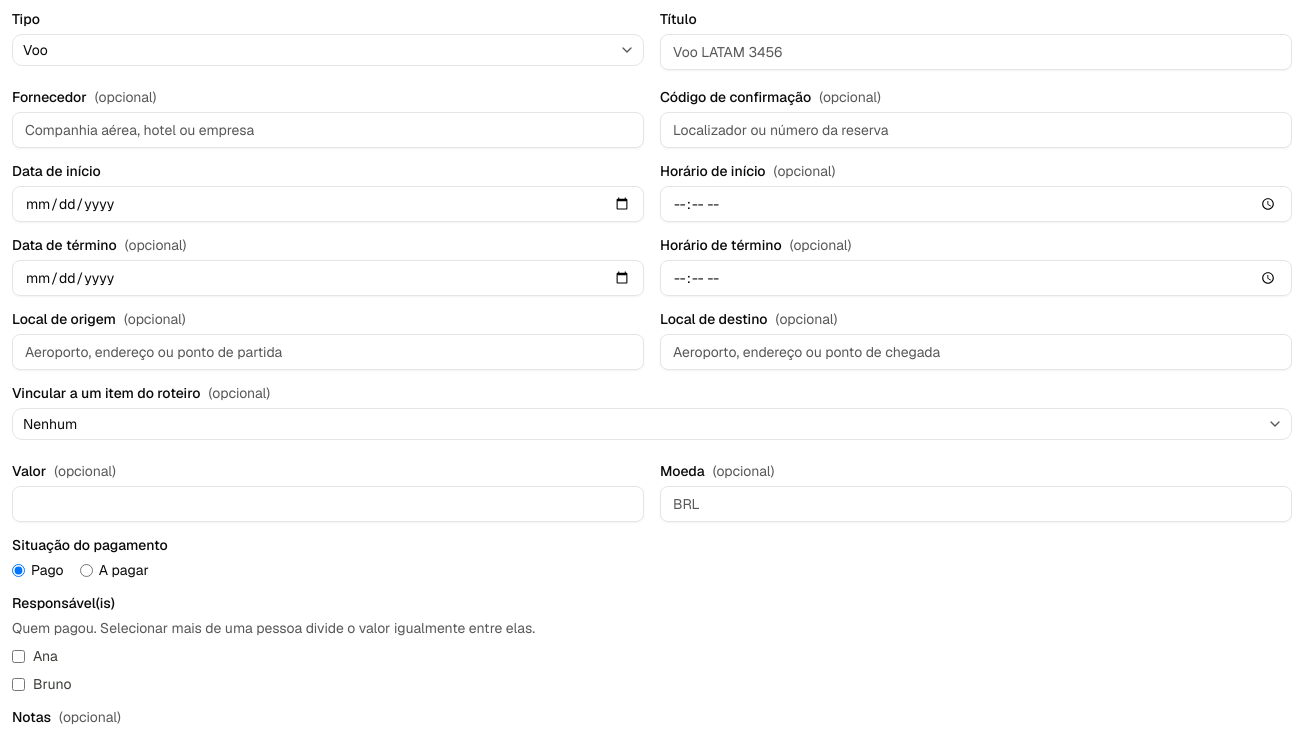
Test: ReservationForm › shows a per-person split preview once an amount is entered and more than one responsible person is checked (#205)
The width and height of the screenshot is (1304, 732).
In the number field labelled "Valor (opcional)": (328, 504) [12,486,644,522], type "100"
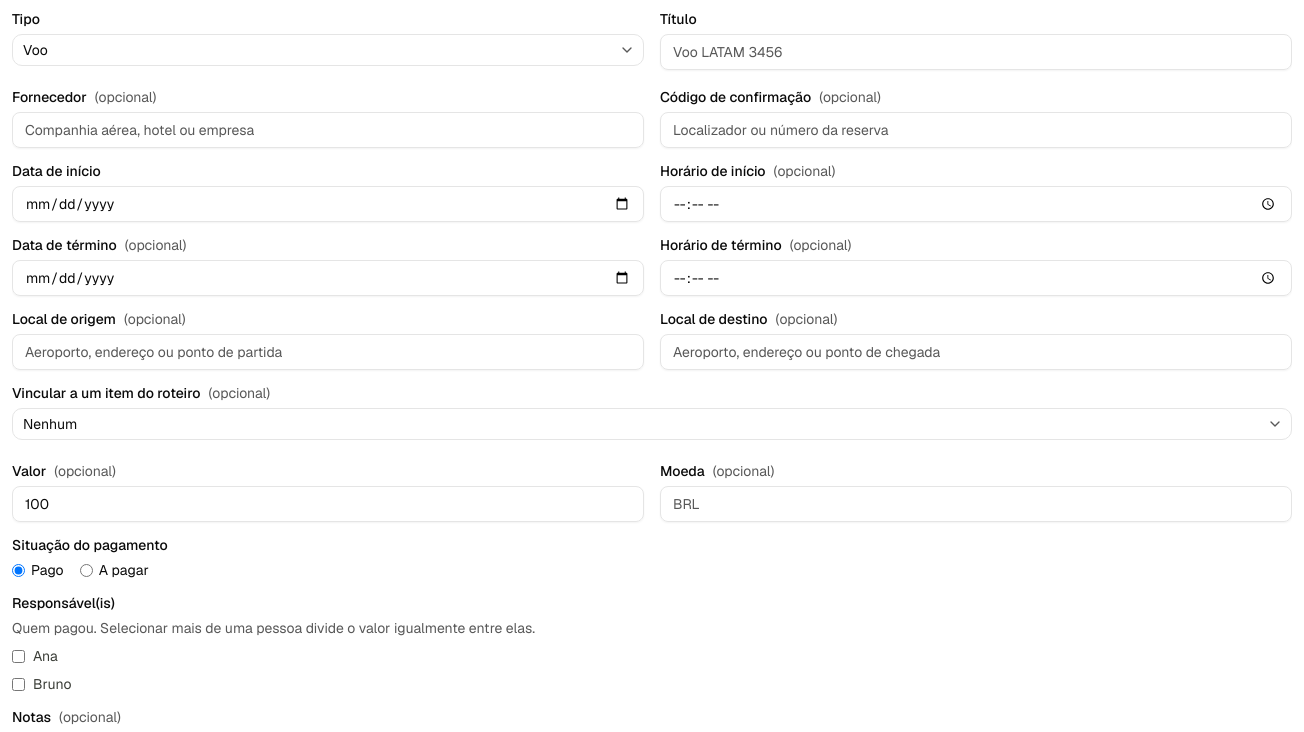
Click the checkbox labelled "Ana": (18, 656) [12,650,25,662]
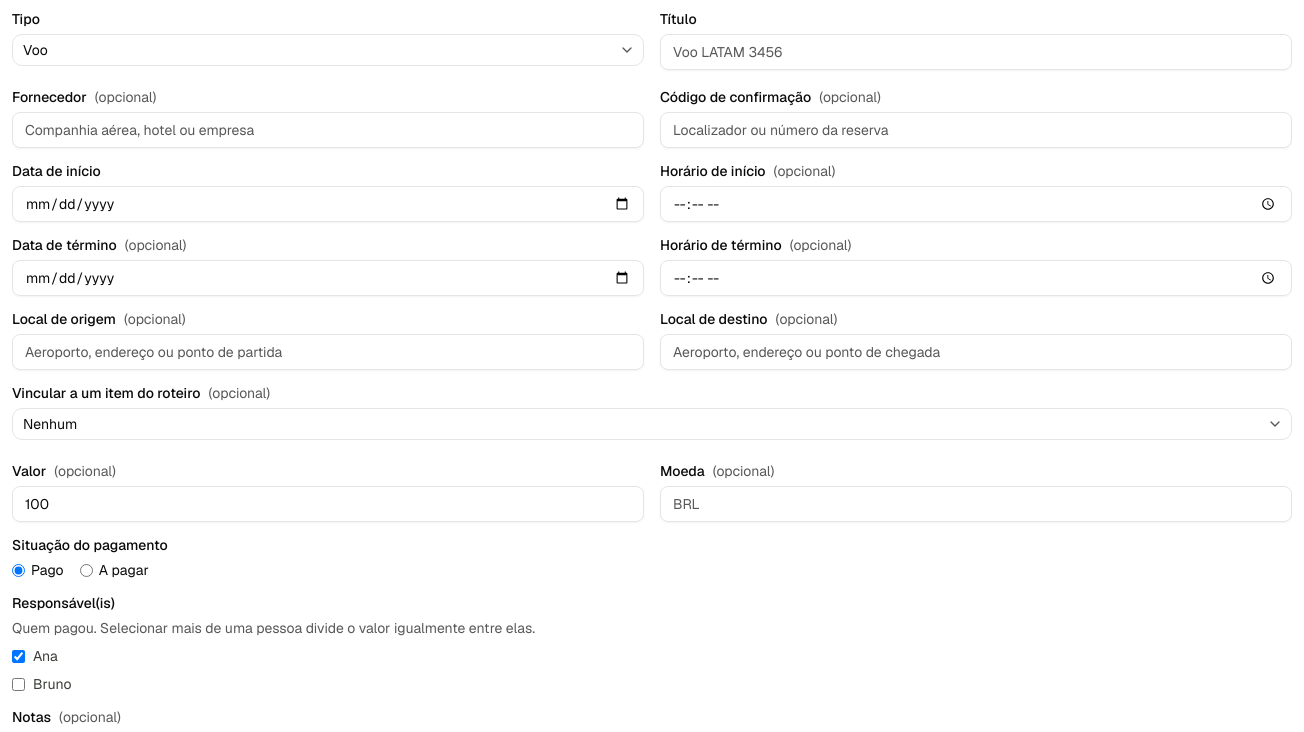
Click the checkbox labelled "Bruno": (18, 684) [12,678,25,690]
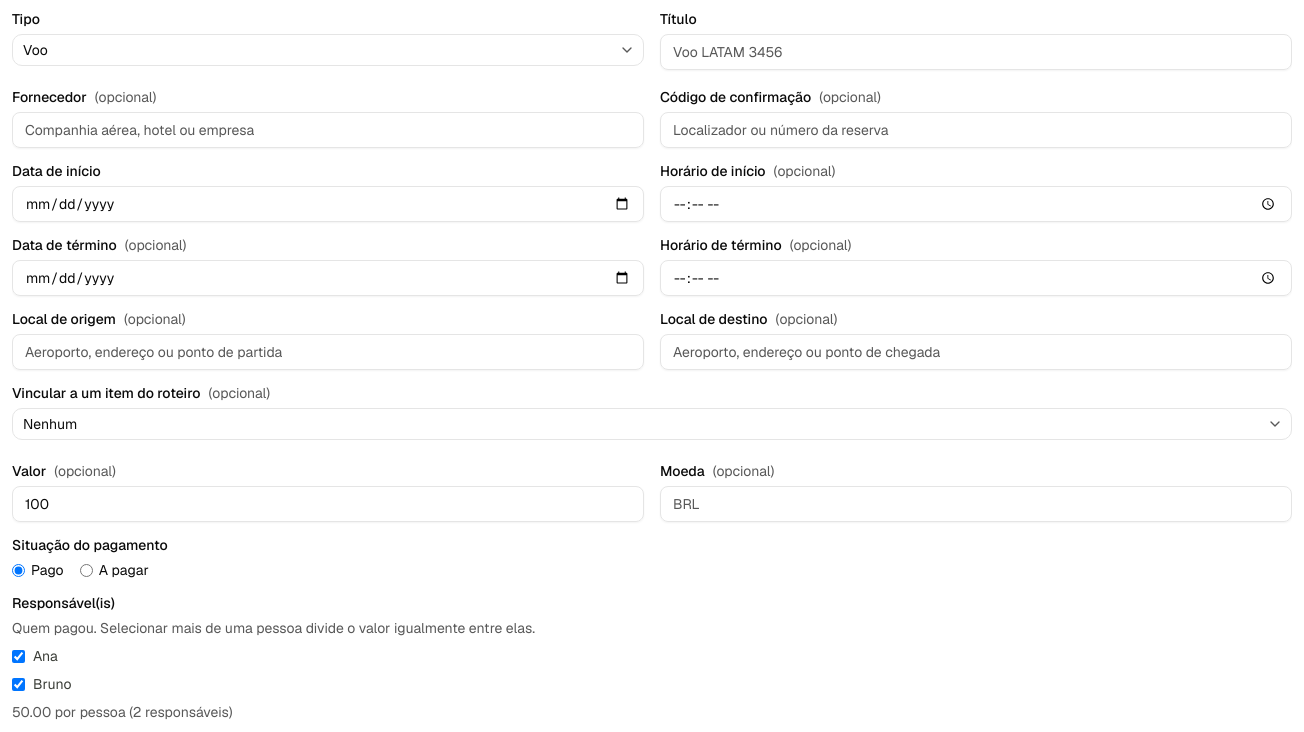
Now the text "50.00 por pessoa (2 responsáveis)" is shown, box [12,703,233,721]
